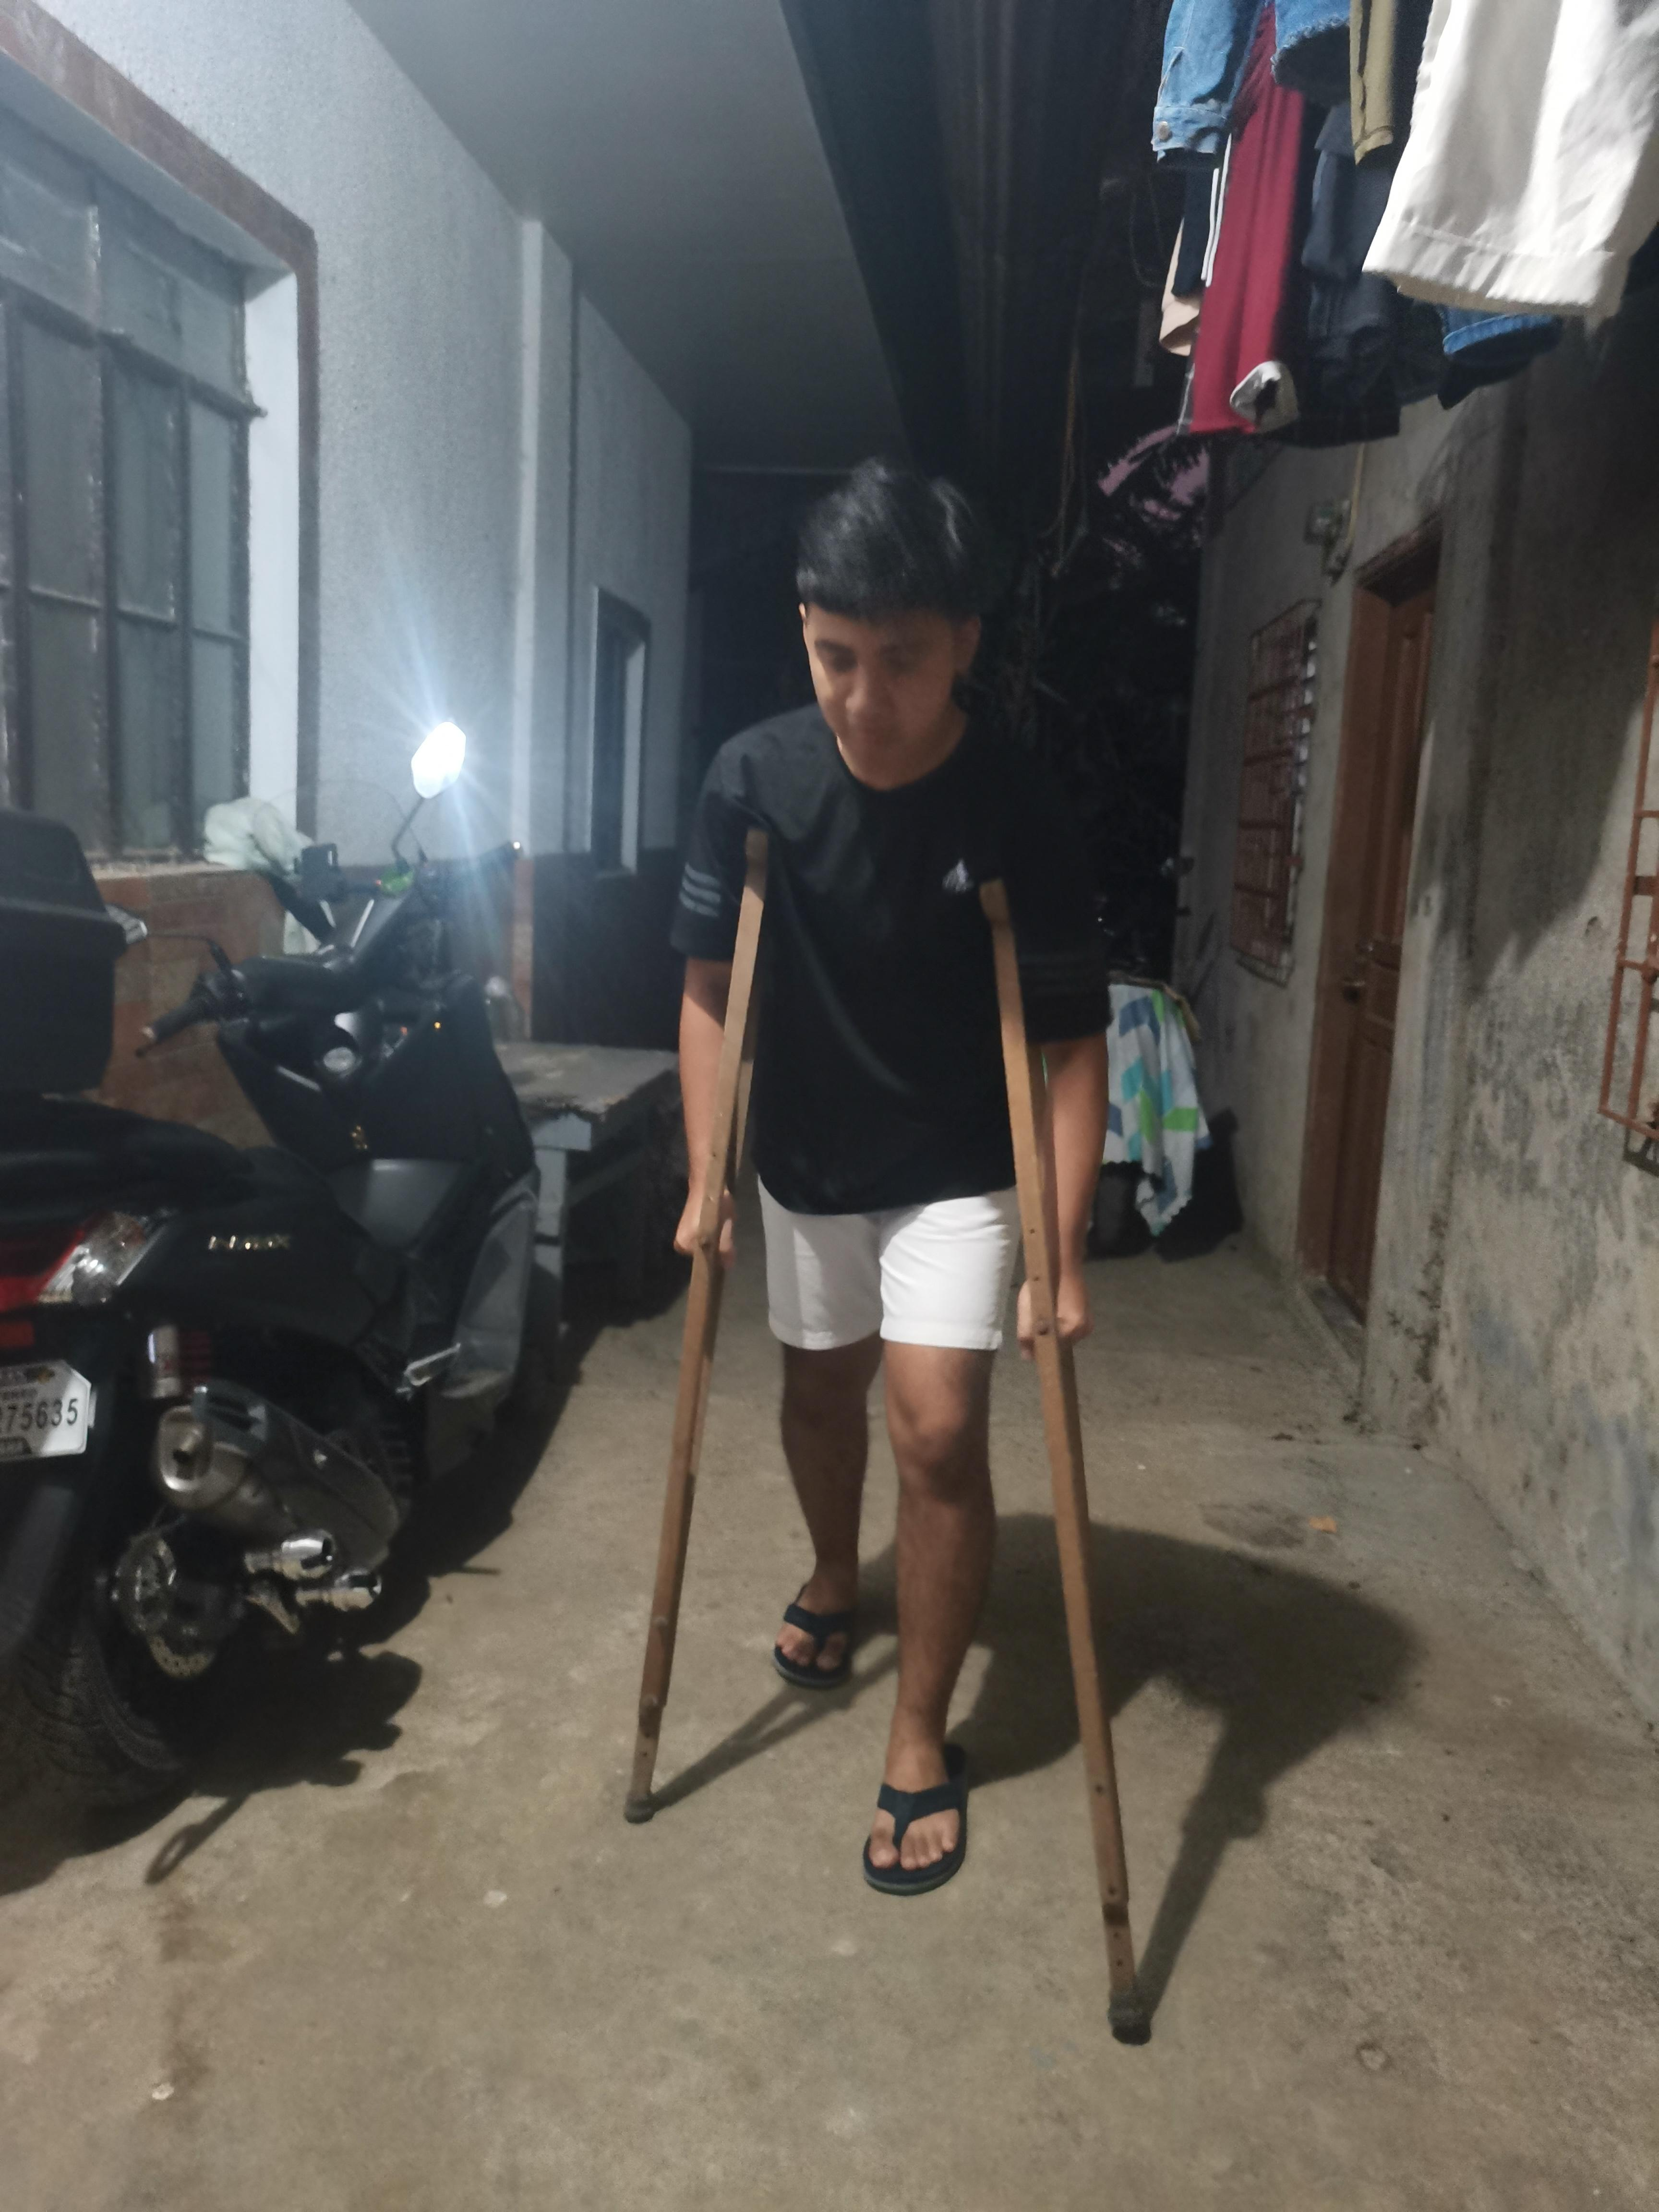crutches: (610, 434, 1171, 2059)
